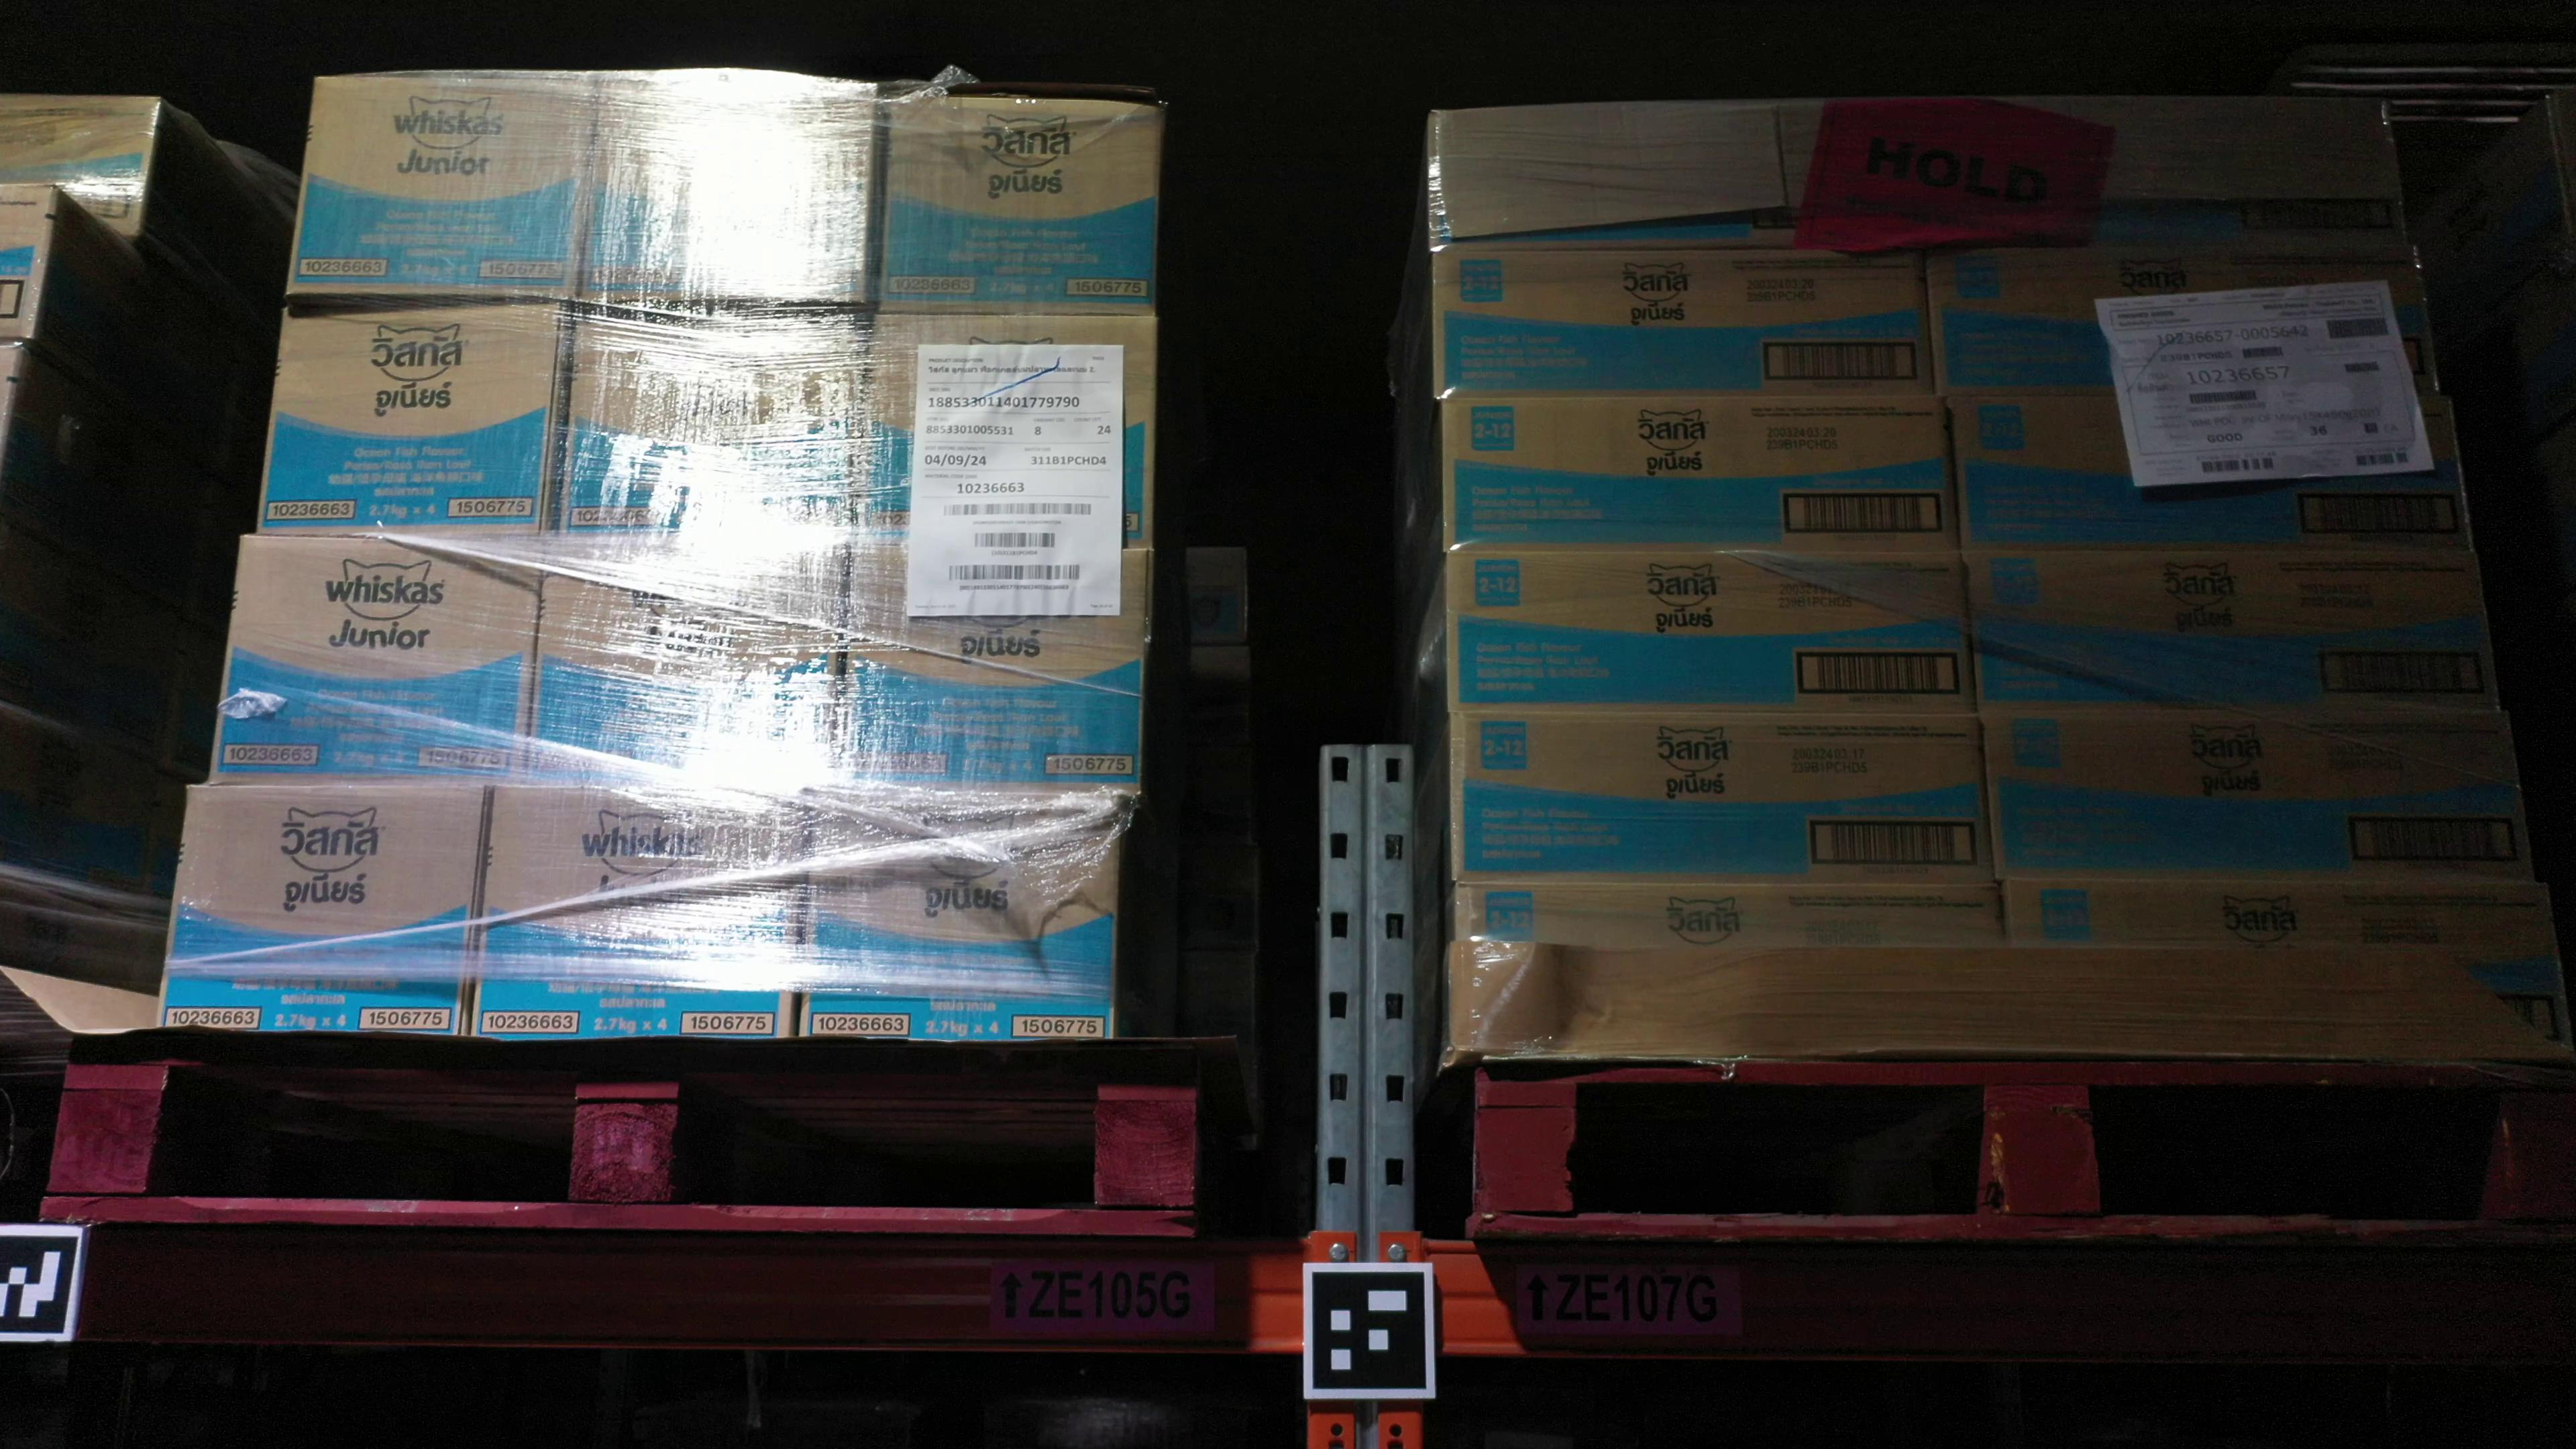-: (2001, 876, 2574, 1053), (1451, 709, 1994, 892), (1980, 711, 2541, 879), (1447, 548, 1976, 718), (1967, 545, 2502, 711), (211, 533, 541, 791), (154, 786, 488, 1040), (469, 786, 805, 1037), (1948, 393, 2473, 550), (796, 794, 1122, 1040), (1444, 396, 1959, 550), (525, 545, 847, 791), (824, 550, 1146, 794), (1433, 246, 1937, 400), (1925, 248, 2440, 398), (253, 297, 568, 540), (552, 306, 865, 545), (849, 311, 1155, 550), (285, 74, 600, 304), (579, 74, 876, 308), (874, 94, 1164, 317), (1454, 881, 2003, 950), (0, 94, 166, 262), (0, 180, 57, 345)
